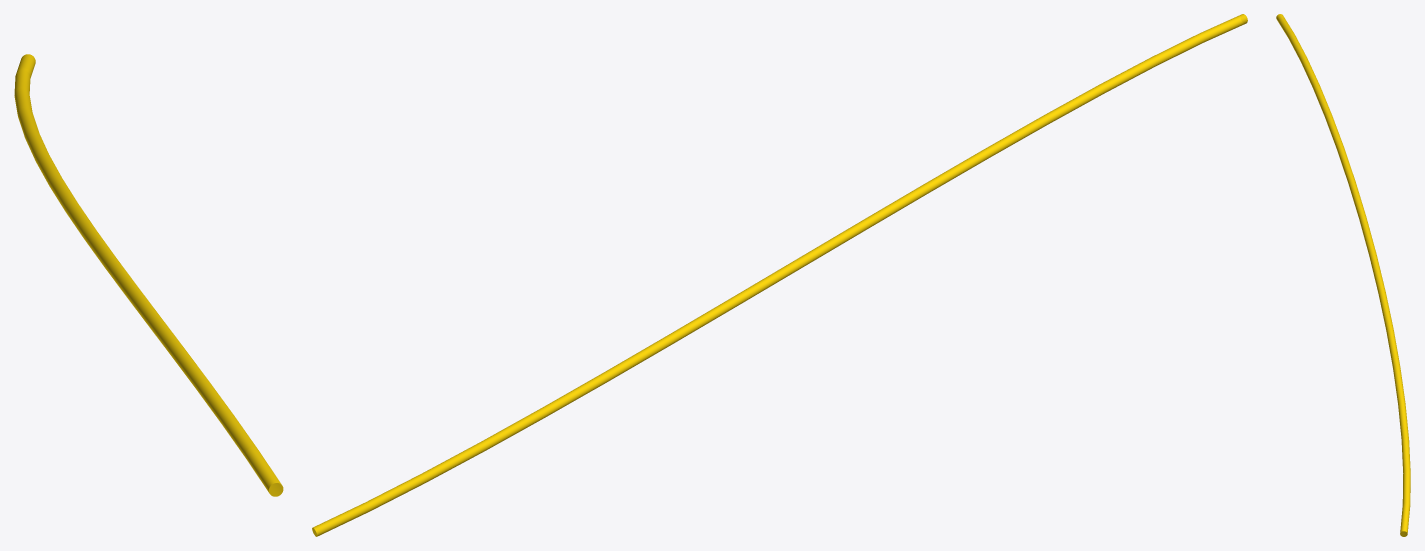
Rendered from Event_421115418_track_176.fbx.
3 renders of one model, left to right at view 1: azimuth 90°, elevation 25°; view 2: azimuth 210°, elevation 25°; view 3: azimuth 270°, elevation 25°, orthographic. The views are drawn at different scales.
Parts seen in each view (by area): view 1: Model; view 2: Model; view 3: Model.
Part boxes in pixels (x1,y1,x2,y2): Model: (14,54,283,496); Model: (312,14,1247,536); Model: (1276,14,1410,536).
Bounding box in the file's own units: 4.57 × 0.9187 × 0.7087.
